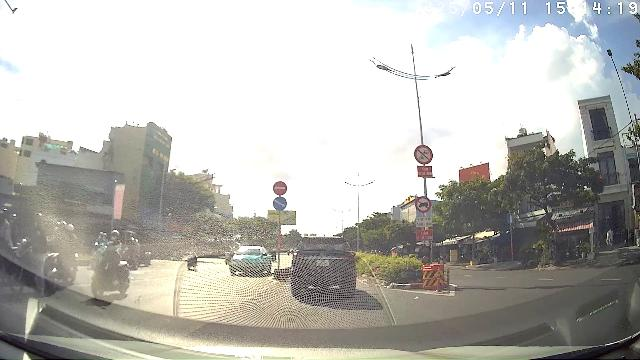102-cam-di-nguoc-chieu: (273, 181, 287, 196)
106-cam-oto-tai: (415, 196, 432, 213)
302a-huong-phai-di-vong-chuong-ngai-vat-1: (273, 197, 287, 210)
